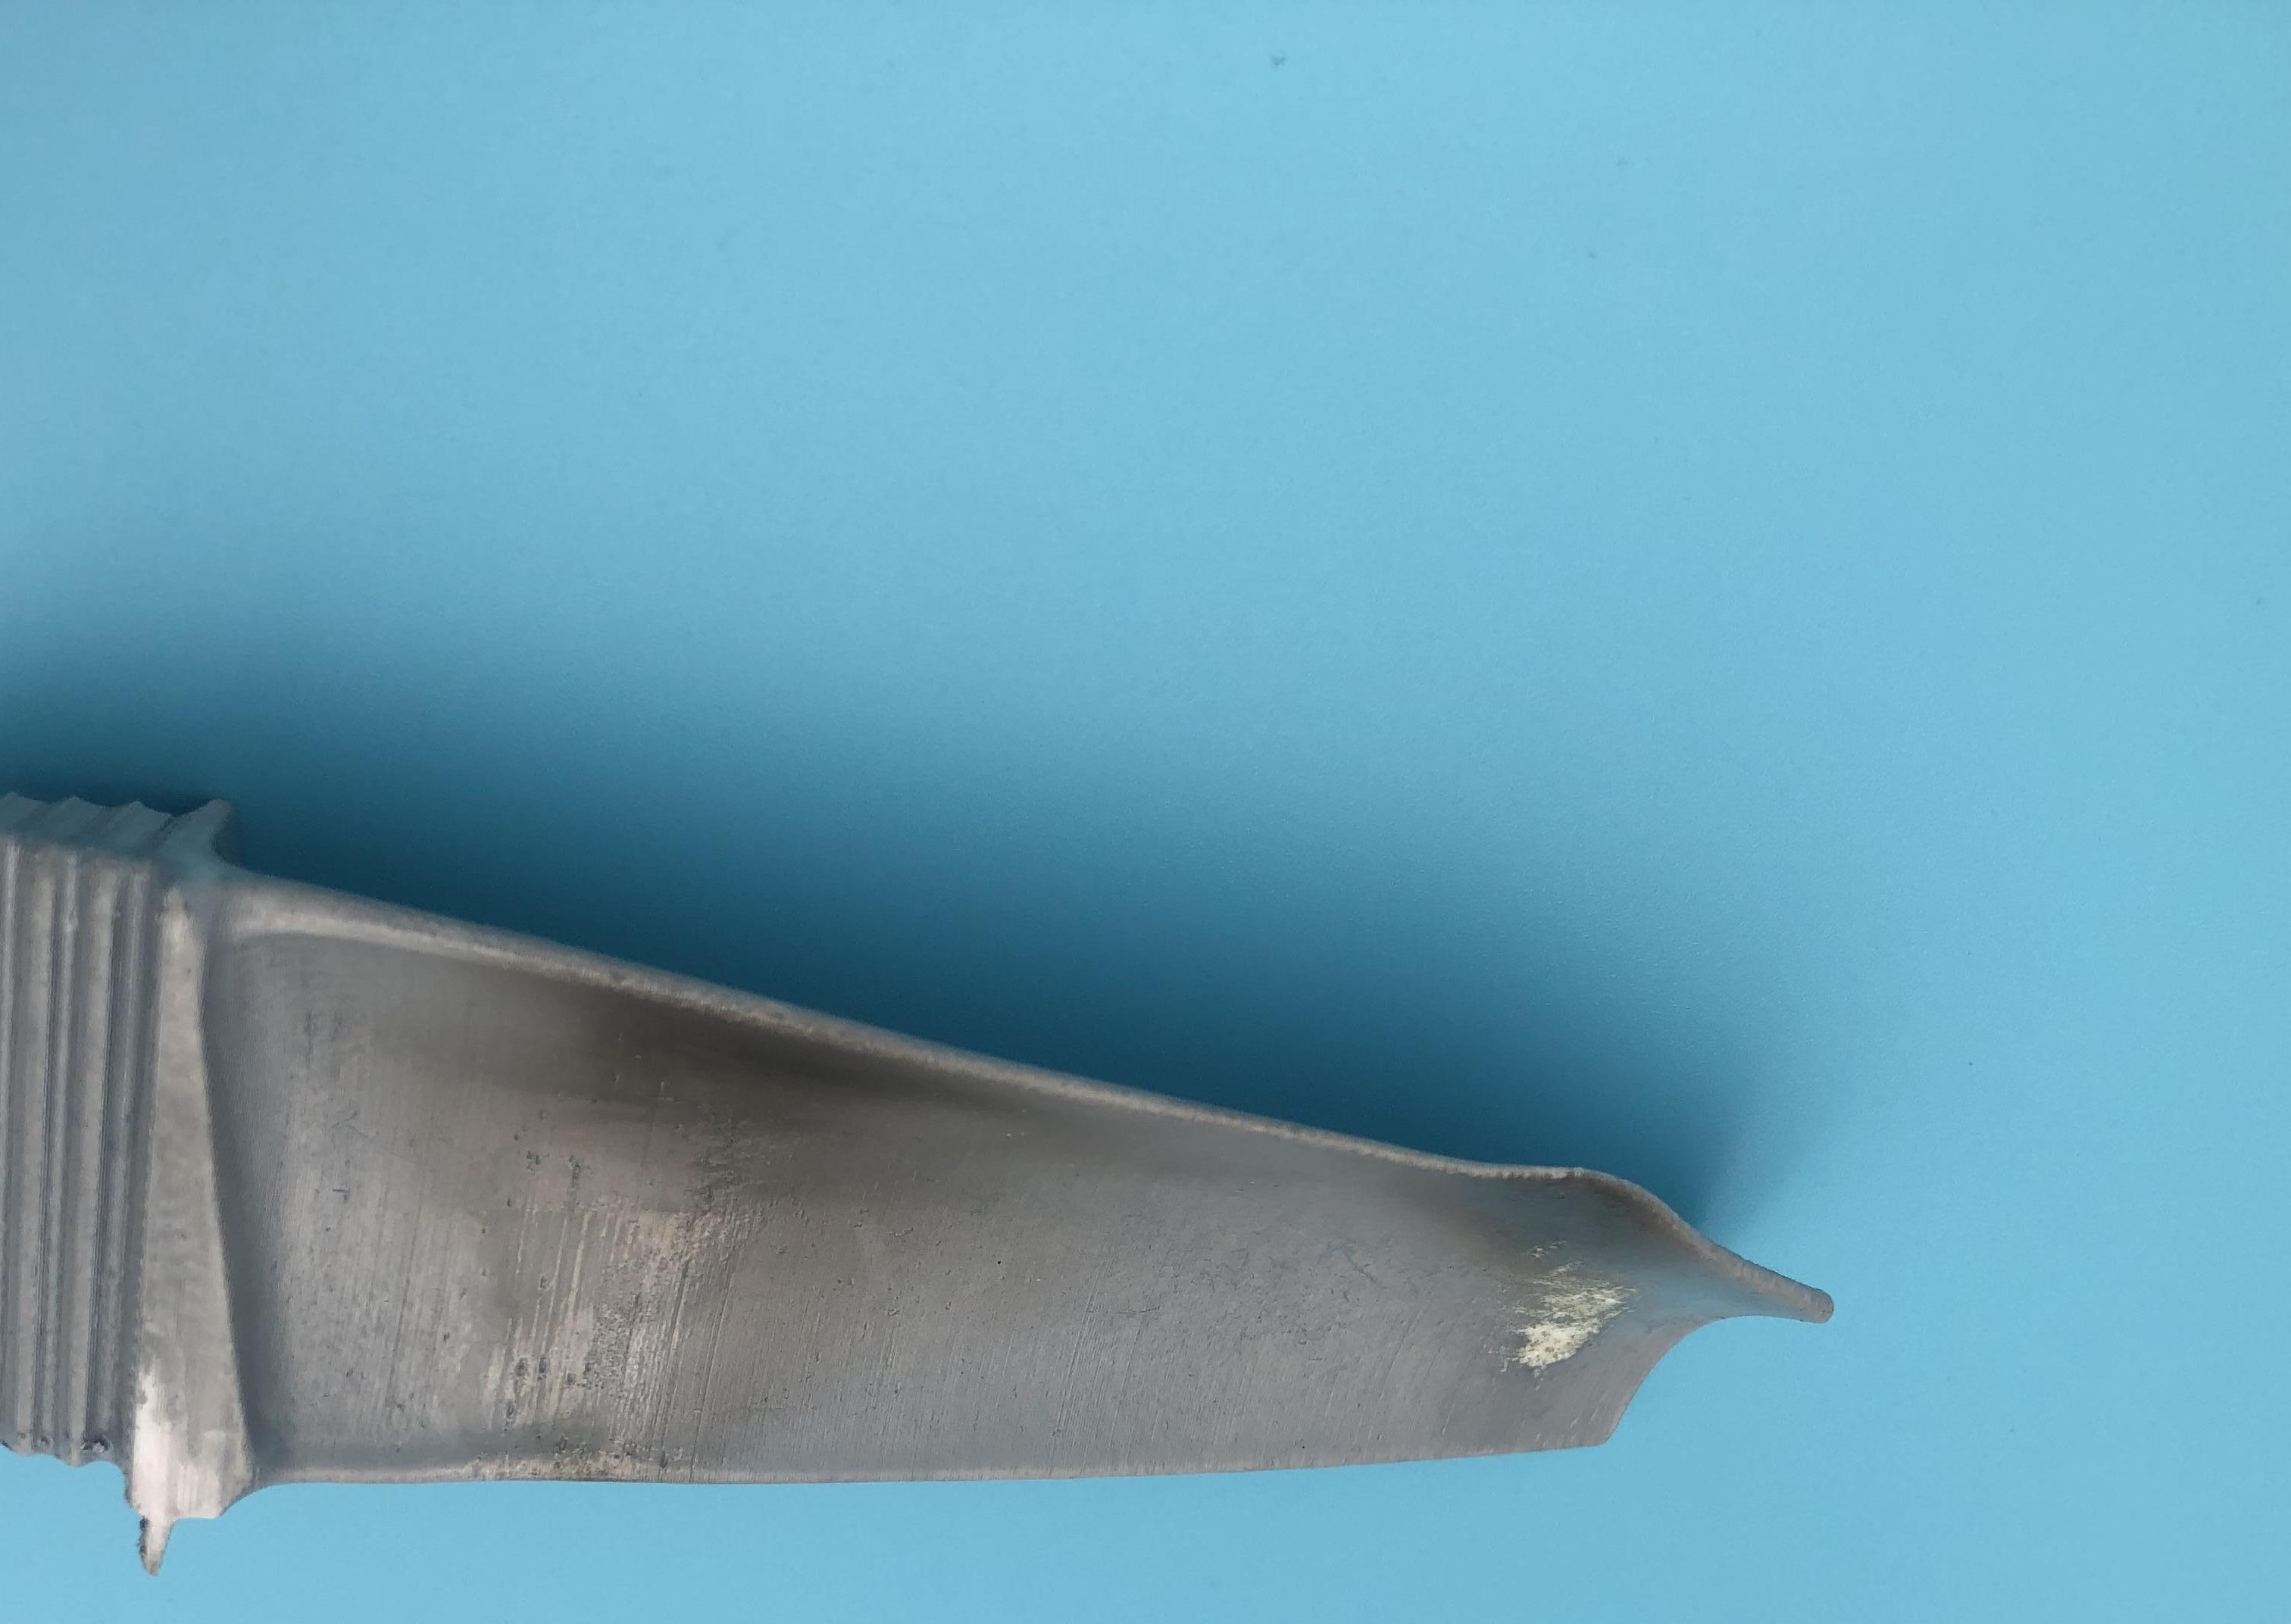ablation: (561, 1004, 967, 1199), (1491, 1193, 1639, 1383)
